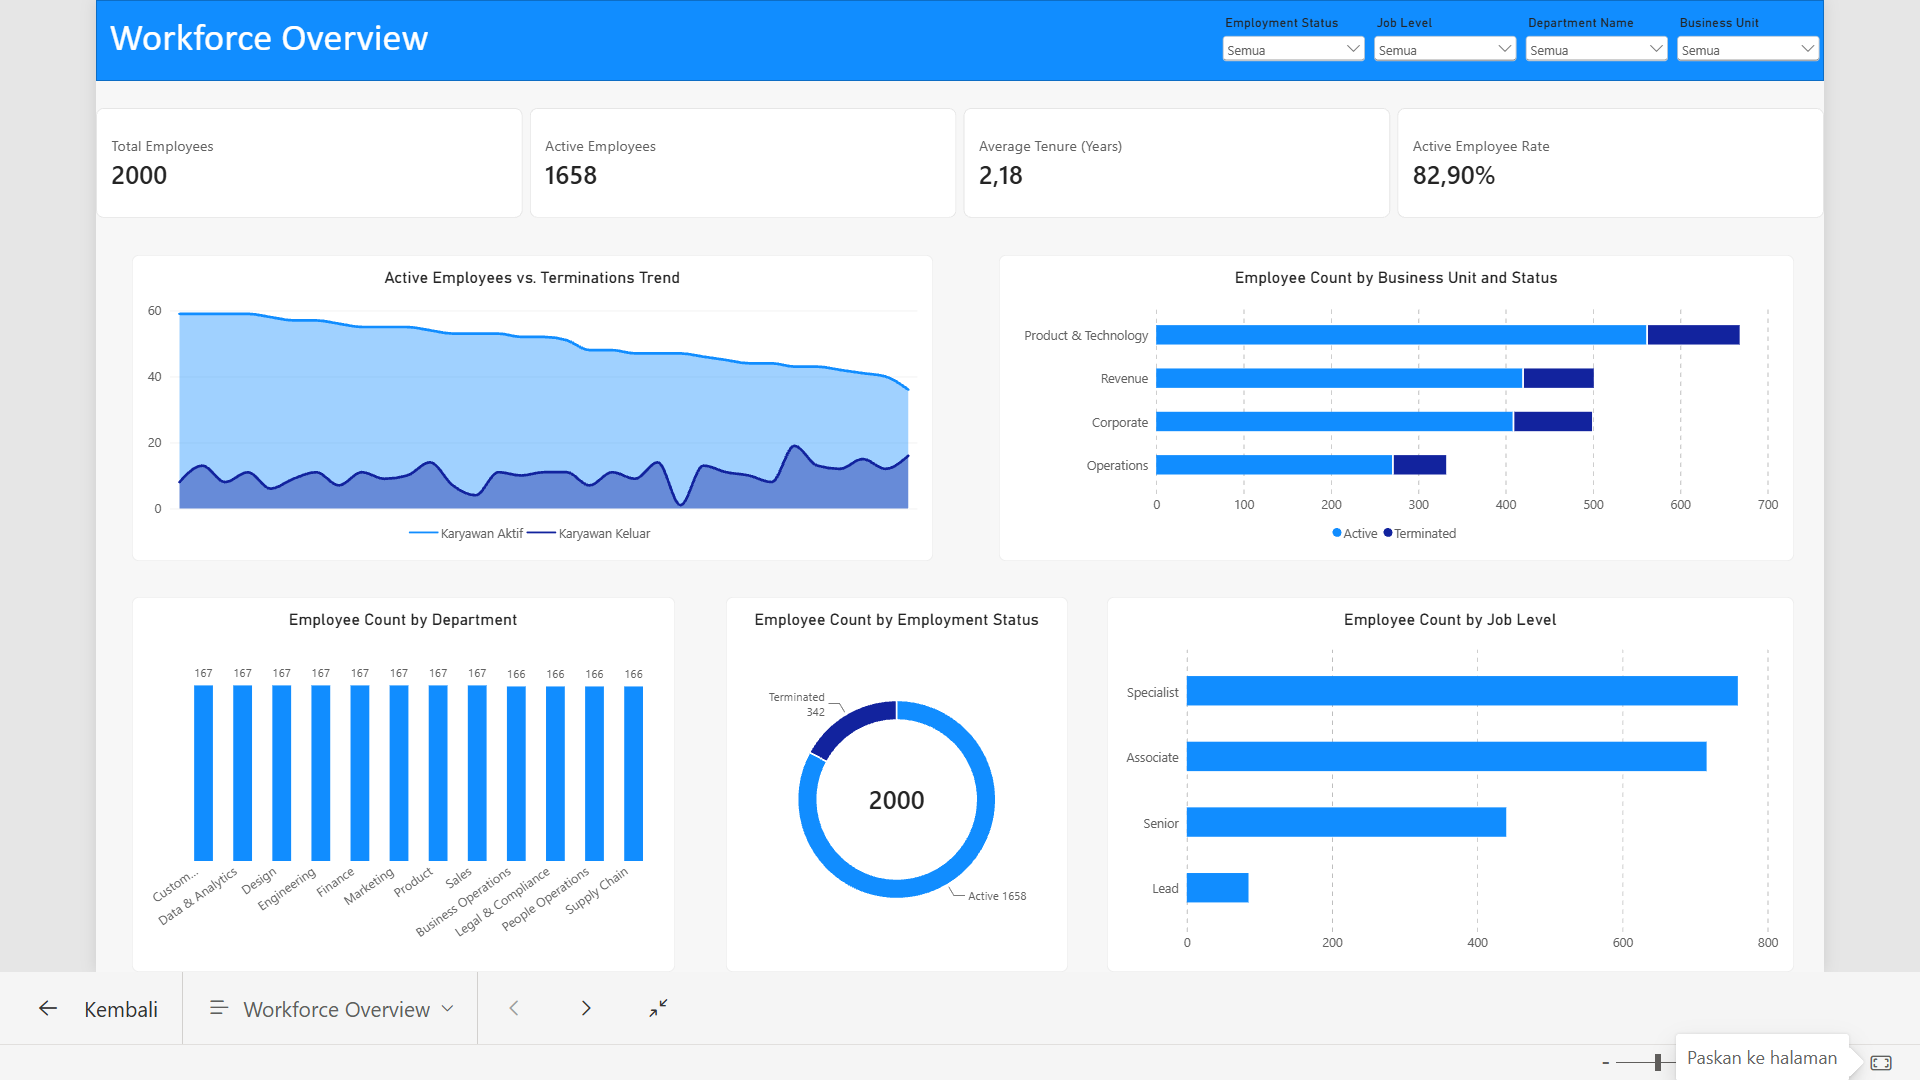

This screenshot's page, from the dashboard's own definition file:
{"tool":"powerbi","page":{"name":"Workforce Overview","canvas":[1920,1080],"ordinal":0},"visuals":[{"type":"cardVisual","fields":{"Data":["_DAX.Total Karyawan","_DAX.Karyawan Aktif","_DAX.Rata-rata Masa Kerja (Tahun)","_DAX.Persentase Aktif"]},"box":[0,120,1920,122.5],"z":0},{"type":"shape","box":[0,0,1920,90],"z":1000},{"type":"donutChart","title":"Employee Count by Employment Status","fields":{"Category":["employment_records.employment_status"],"Y":["Count(employment_records.employee_id)"]},"box":[670.9,664.4,427.1,416.3],"z":2000},{"type":"columnChart","title":"Employee Count by Department","fields":{"Category":["departments.department_name"],"Y":["CountNonNull(employment_records.employee_id)"]},"box":[40,663.3,603.3,416.7],"z":3000},{"type":"barChart","title":"Employee Count by Business Unit and Status","fields":{"Category":["departments.business_unit"],"Series":["employment_records.employment_status"],"Y":["CountNonNull(employment_records.employee_id)"]},"box":[1003.3,283.3,883.3,340],"z":4000},{"type":"barChart","title":"Employee Count by Job Level","fields":{"Category":["job_roles.job_level"],"Y":["CountNonNull(employment_records.employee_id)"]},"box":[1123.3,663.3,763.3,416.7],"z":5000},{"type":"areaChart","title":"Active Employees vs. Terminations Trend","fields":{"Category":["kalender.Tahun Bulan"],"Y":["_DAX.Karyawan Aktif","_DAX.Karyawan Keluar"]},"box":[40,283.3,890,340],"z":6000},{"type":"textbox","box":[78.3,1.7,451.7,106.7],"z":7000},{"type":"slicer","fields":{"Values":["departments.business_unit"]},"box":[1751.2,15.9,168.1,75],"z":8000},{"type":"slicer","fields":{"Values":["departments.department_name"]},"box":[1583.1,15.9,168.1,75],"z":9000},{"type":"slicer","fields":{"Values":["job_roles.job_level"]},"box":[1415,15.9,168.1,75],"z":10000},{"type":"slicer","title":"Status Karyawan","fields":{"Values":["employment_records.employment_status"]},"box":[1246.9,15.9,168.1,75],"z":11000},{"type":"image","box":[6.7,3.3,71.7,88.3],"z":12000}]}

Visuals, with their boxes on the page's 1920x1080 design canvas (x1, y1, x2, y2). These are canvas units, not pixel positions in the 1920x1080 screenshot, which may show the page scaled, cropped or inside an application window:
cardVisual - _DAX.Total Karyawan x _DAX.Karyawan Aktif: [x1=0, y1=120, x2=1920, y2=242]
shape: [x1=0, y1=0, x2=1920, y2=90]
"Employee Count by Employment Status" donutChart: [x1=671, y1=664, x2=1098, y2=1081]
"Employee Count by Department" columnChart: [x1=40, y1=663, x2=643, y2=1080]
"Employee Count by Business Unit and Status" barChart: [x1=1003, y1=283, x2=1887, y2=623]
"Employee Count by Job Level" barChart: [x1=1123, y1=663, x2=1887, y2=1080]
"Active Employees vs. Terminations Trend" areaChart: [x1=40, y1=283, x2=930, y2=623]
textbox: [x1=78, y1=2, x2=530, y2=108]
slicer - departments.business_unit: [x1=1751, y1=16, x2=1919, y2=91]
slicer - departments.department_name: [x1=1583, y1=16, x2=1751, y2=91]
slicer - job_roles.job_level: [x1=1415, y1=16, x2=1583, y2=91]
"Status Karyawan" slicer: [x1=1247, y1=16, x2=1415, y2=91]
image: [x1=7, y1=3, x2=78, y2=92]
